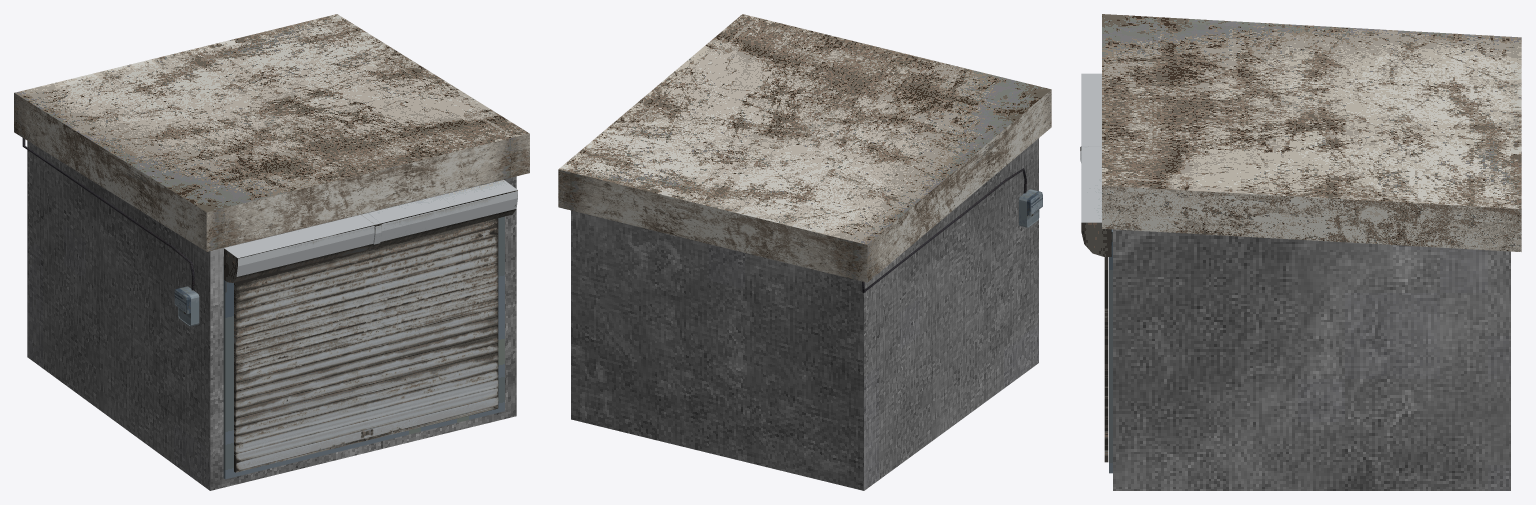
The model's file is Modern-Store-Close.glb.
3 renders of one model, left to right at view 1: azimuth 30°, elevation 25°; view 2: azimuth 150°, elevation 25°; view 3: azimuth 270°, elevation 25°, orthographic. The views are drawn at different scales.
Parts seen in each view (by area): view 1: Cube.016, Roll Up (down).001, Roll Up Shell.001, Wire.001; view 2: Cube.016, Wire.001; view 3: Cube.016, Roll Up Shell.001, Roll Up (down).001.
Part boxes in pixels (left/top/right/bottom): Cube.016: left=14, top=14, right=529, bottom=490; Roll Up (down).001: left=234, top=218, right=498, bottom=472; Roll Up Shell.001: left=224, top=180, right=517, bottom=282; Wire.001: left=22, top=138, right=199, bottom=326; Cube.016: left=558, top=14, right=1051, bottom=490; Wire.001: left=862, top=168, right=1042, bottom=292; Cube.016: left=1102, top=14, right=1521, bottom=490; Roll Up Shell.001: left=1080, top=73, right=1111, bottom=256; Roll Up (down).001: left=1104, top=257, right=1108, bottom=462.
Size of the model in its own units: 7.18 by 5.94 by 7.67.
Materials: 7 (7 with a texture image).
